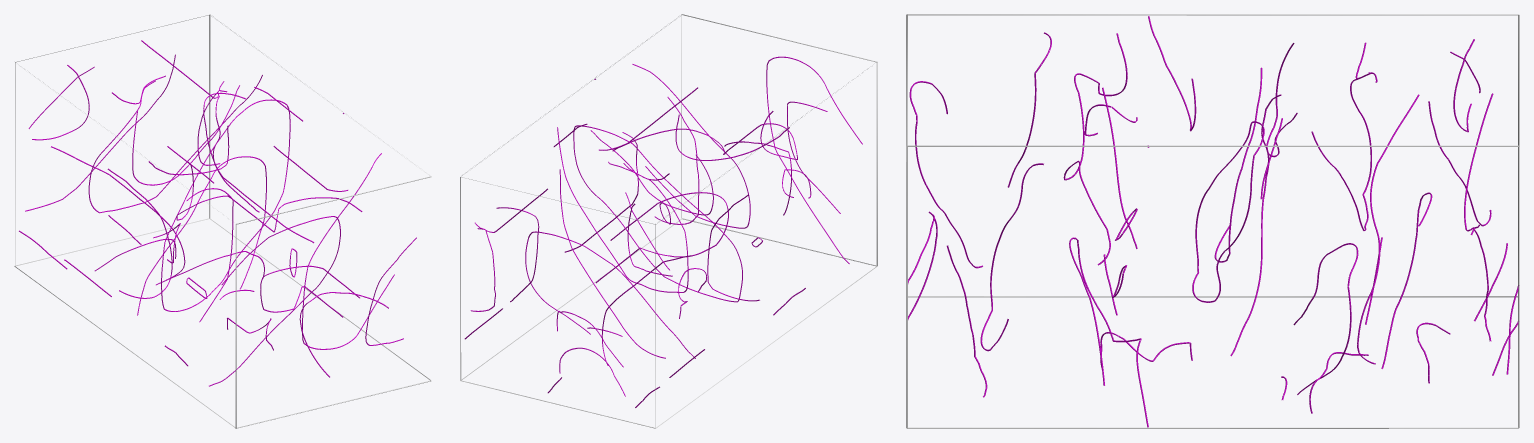
The picture shows the model from 3 angles, left to right: view 1: azimuth 30°, elevation 25°; view 2: azimuth 150°, elevation 25°; view 3: azimuth 270°, elevation 25°; orthographic projection. The views are drawn at different scales.
Visible parts, largest first — view 1: Shape_IndexedLineSet.001, Shape_IndexedLineSet; view 2: Shape_IndexedLineSet.001, Shape_IndexedLineSet; view 3: Shape_IndexedLineSet.001, Shape_IndexedLineSet.
Part boxes in pixels (x1,y1,x2,y2): Shape_IndexedLineSet.001: (19,40,416,386); Shape_IndexedLineSet: (14,14,431,428); Shape_IndexedLineSet.001: (464,56,862,407); Shape_IndexedLineSet: (460,14,877,428); Shape_IndexedLineSet.001: (908,16,1519,427); Shape_IndexedLineSet: (906,14,1519,428).
Bounding box in the file's own units: 235 × 235 × 461.
